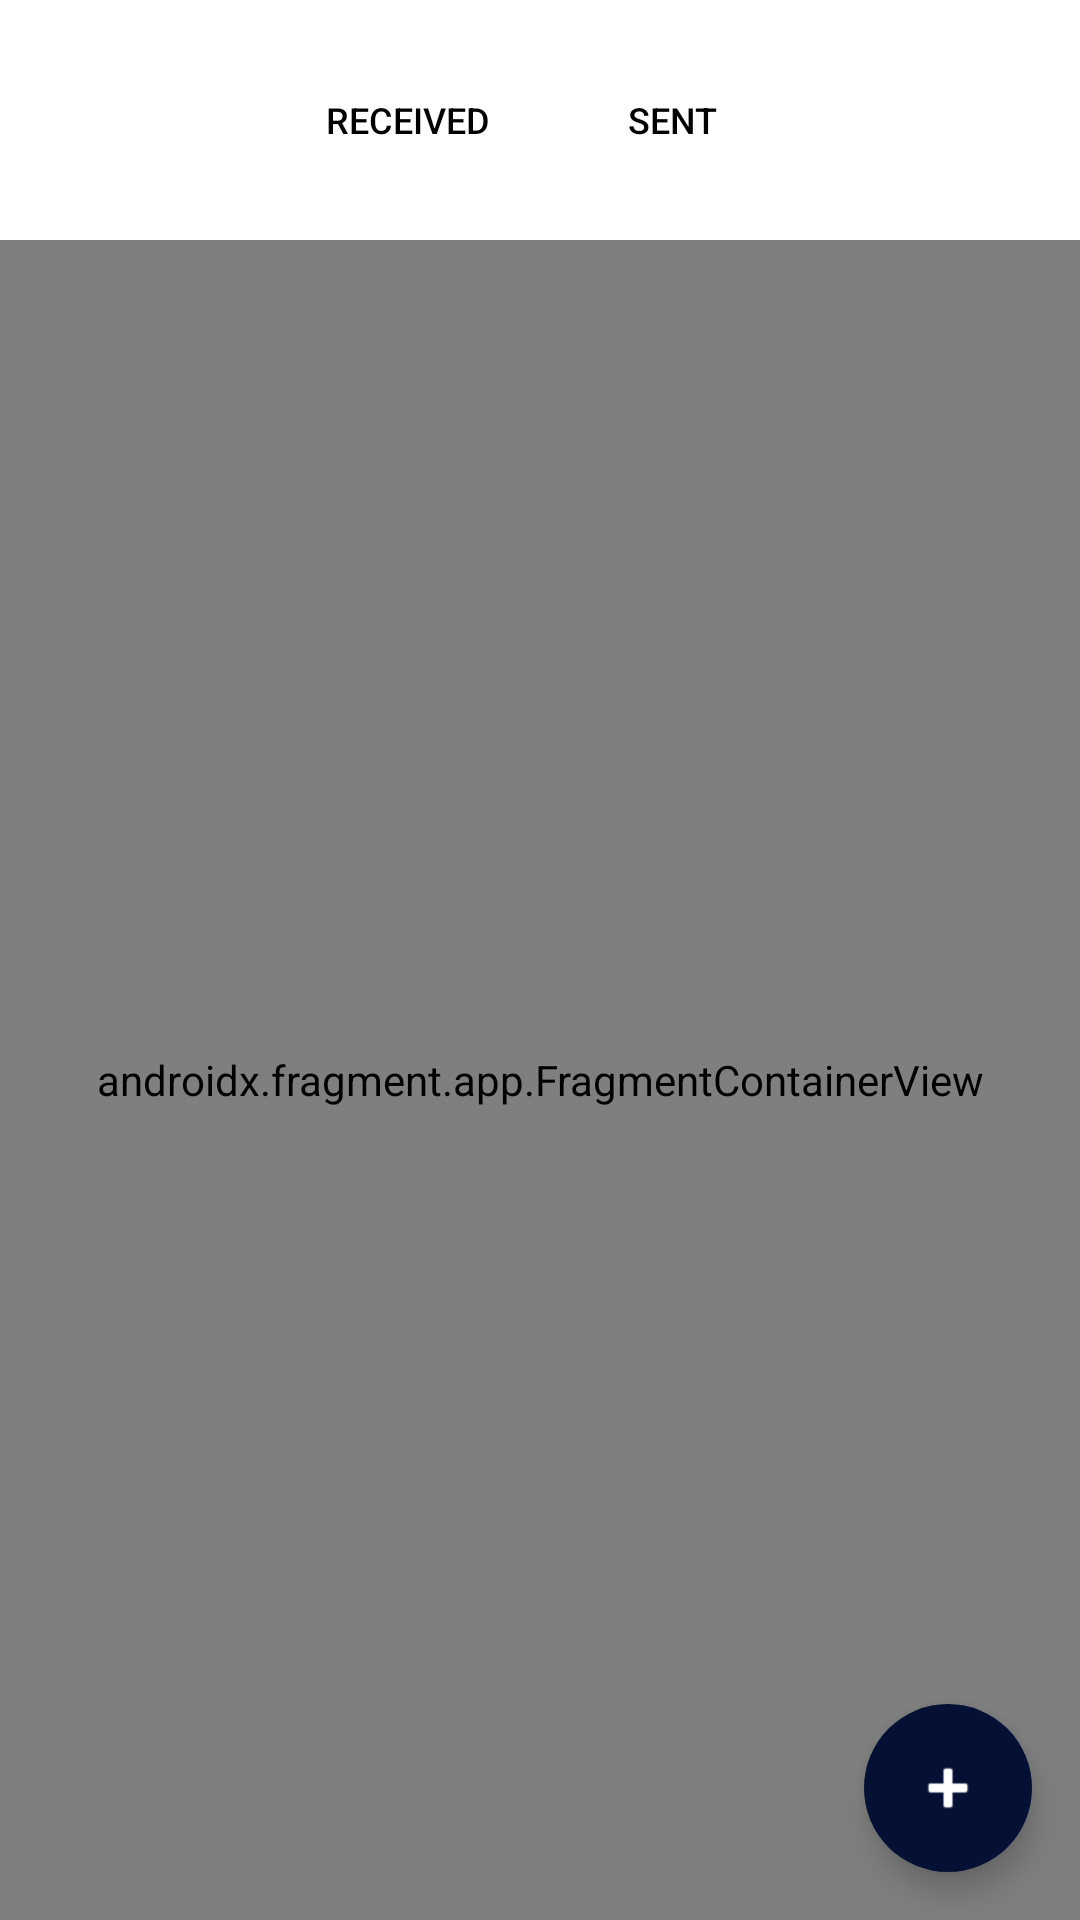

Icons on this 1080*1920 Android screen, each with its box as [left=x1, top=y1, right=x2, bottom=y2]:
Press to start new challenge: [left=864, top=1704, right=1032, bottom=1872]
